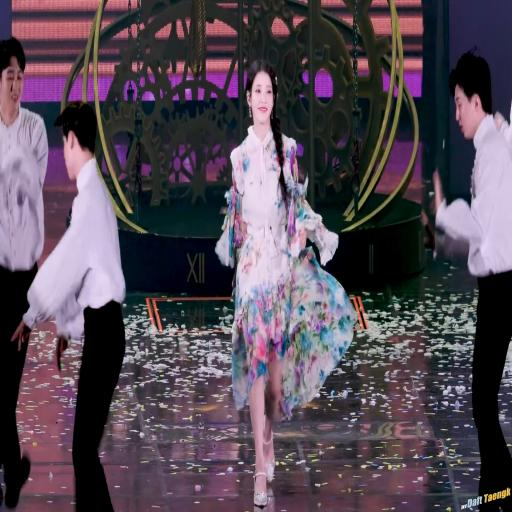IU: (245, 59, 278, 126)
